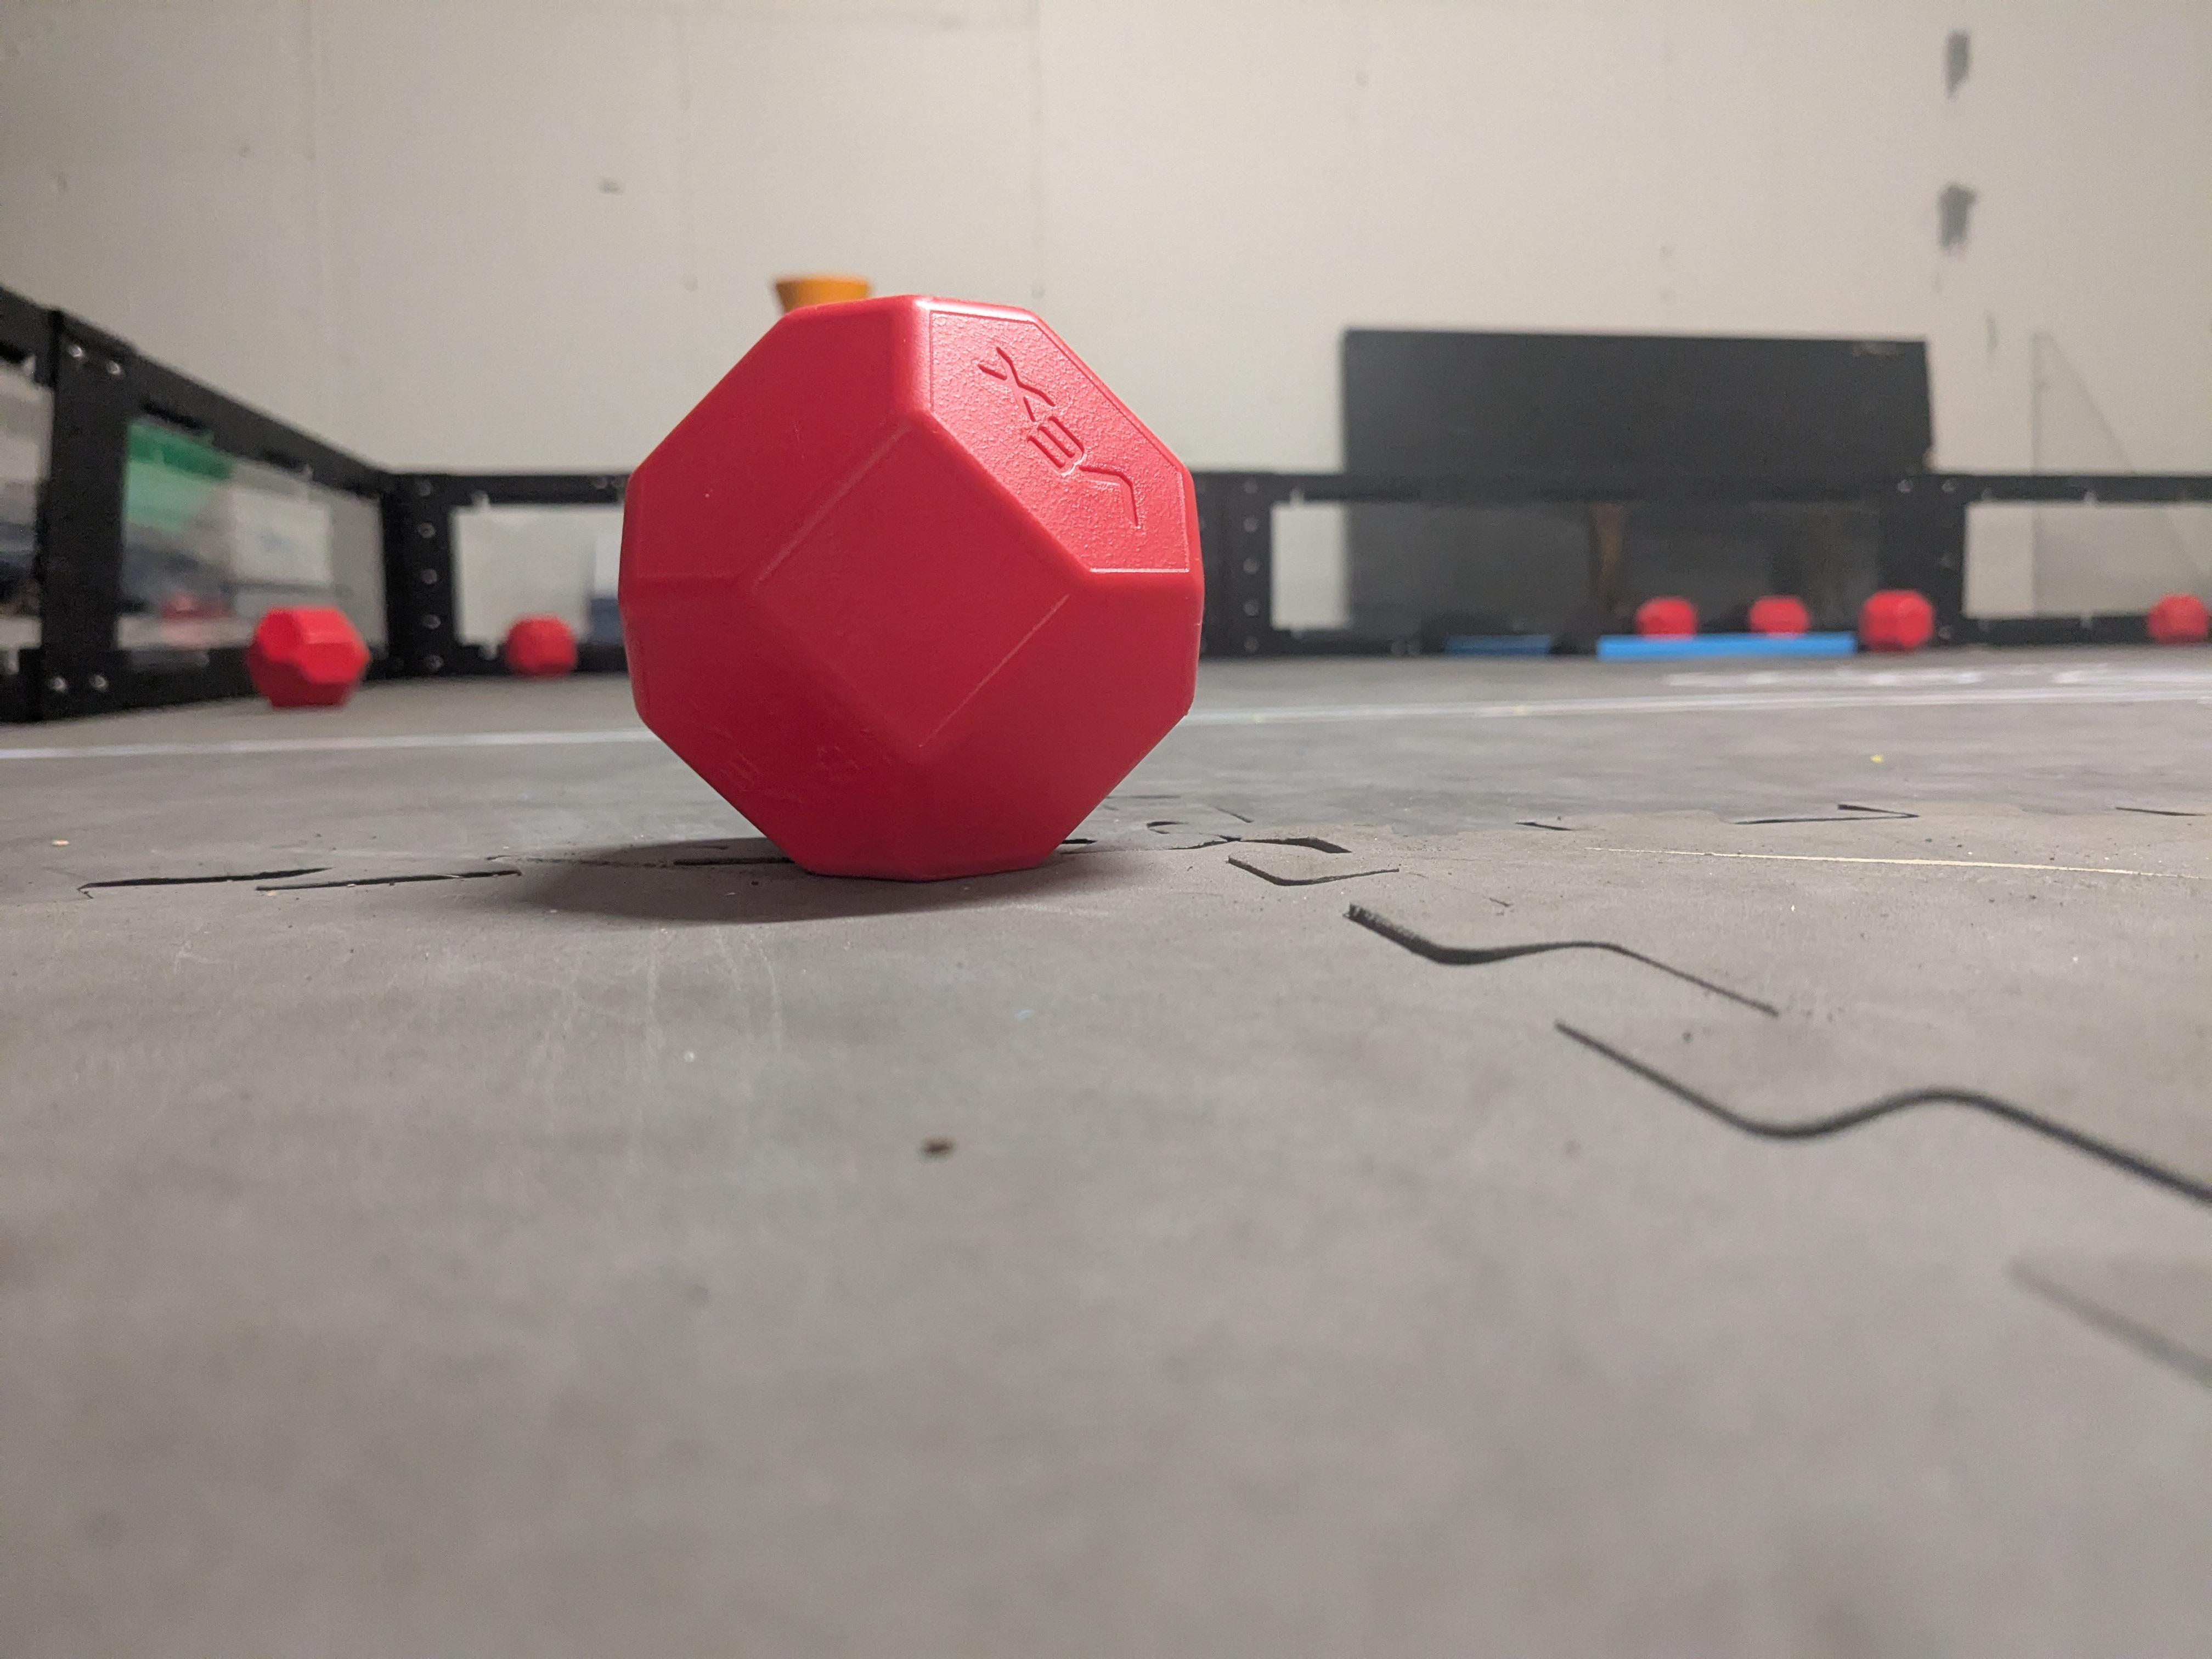Vex-Pieces-RED: (625, 301, 1211, 884)
